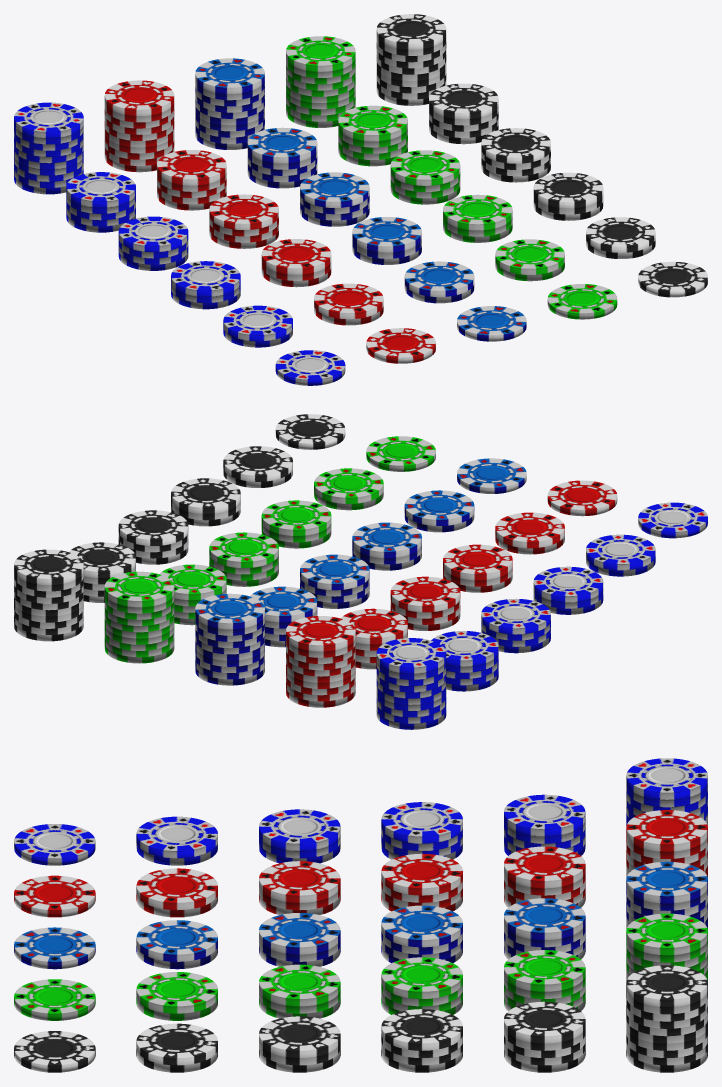
File: uploads_files_725823_PokerChipSet1.fbx
3 renders of one model, top to bottom at view 1: azimuth 30°, elevation 25°; view 2: azimuth 150°, elevation 25°; view 3: azimuth 270°, elevation 25°, orthographic. The views are drawn at different scales.
Visible parts, largest first — view 1: $5 - 10, $100 - 10, $1 - 10, $25 - 10, $10 - 10, $10 - 5, $25 - 5, $5 - 5, $100 - 5, $1 - 5, $25 -4, $1 - 4 (+18 smaller); view 2: $25 - 10, $1 - 10, $100 - 10, $10 - 10, $5 - 10, $100 - 4, $5 - 4, $25 -4, $10 - 4, $1 - 4, $1 - 5, $25 - 3 (+18 smaller); view 3: $100 - 10, $100 - 5, $100 - 4, $25 - 10, $1 - 10, $10 - 10, $5 - 10, $5 - 5, $1 - 5, $10 - 5, $25 - 5, $10 - 4 (+18 smaller).
Boxes of the visible parts, <box> form: $5 - 10: <box>104,80,174,172</box>; $100 - 10: <box>376,14,446,105</box>; $1 - 10: <box>14,102,83,194</box>; $25 - 10: <box>286,36,355,127</box>; $10 - 10: <box>195,58,264,149</box>; $10 - 5: <box>247,127,317,188</box>; $25 - 5: <box>338,105,407,166</box>; $5 - 5: <box>157,150,226,210</box>; $100 - 5: <box>429,83,498,144</box>; $1 - 5: <box>66,172,135,232</box>; $25 -4: <box>390,150,460,204</box>; $1 - 4: <box>118,216,188,270</box>; $25 - 10: <box>104,571,174,663</box>; $1 - 10: <box>376,638,446,729</box>; $100 - 10: <box>14,549,83,641</box>; $10 - 10: <box>195,593,264,685</box>; $5 - 10: <box>286,616,355,707</box>; $100 - 4: <box>118,510,188,564</box>; $5 - 4: <box>390,576,460,630</box>; $25 -4: <box>209,532,278,586</box>; $10 - 4: <box>300,554,369,608</box>; $1 - 4: <box>481,598,550,653</box>; $1 - 5: <box>431,631,498,691</box>; $25 - 3: <box>261,500,331,548</box>; $100 - 10: <box>626,965,707,1072</box>; $100 - 5: <box>504,1001,585,1072</box>; $100 - 4: <box>381,1009,462,1072</box>; $25 - 10: <box>626,913,707,981</box>; $1 - 10: <box>626,758,707,826</box>; $10 - 10: <box>626,861,707,929</box>; $5 - 10: <box>626,810,707,877</box>; $5 - 5: <box>504,846,585,907</box>; $1 - 5: <box>504,794,585,855</box>; $10 - 5: <box>504,898,585,959</box>; $25 - 5: <box>504,950,585,1010</box>; $10 - 4: <box>381,905,462,963</box>.
Size of the model in its own units: 1700 by 1400 by 197.
